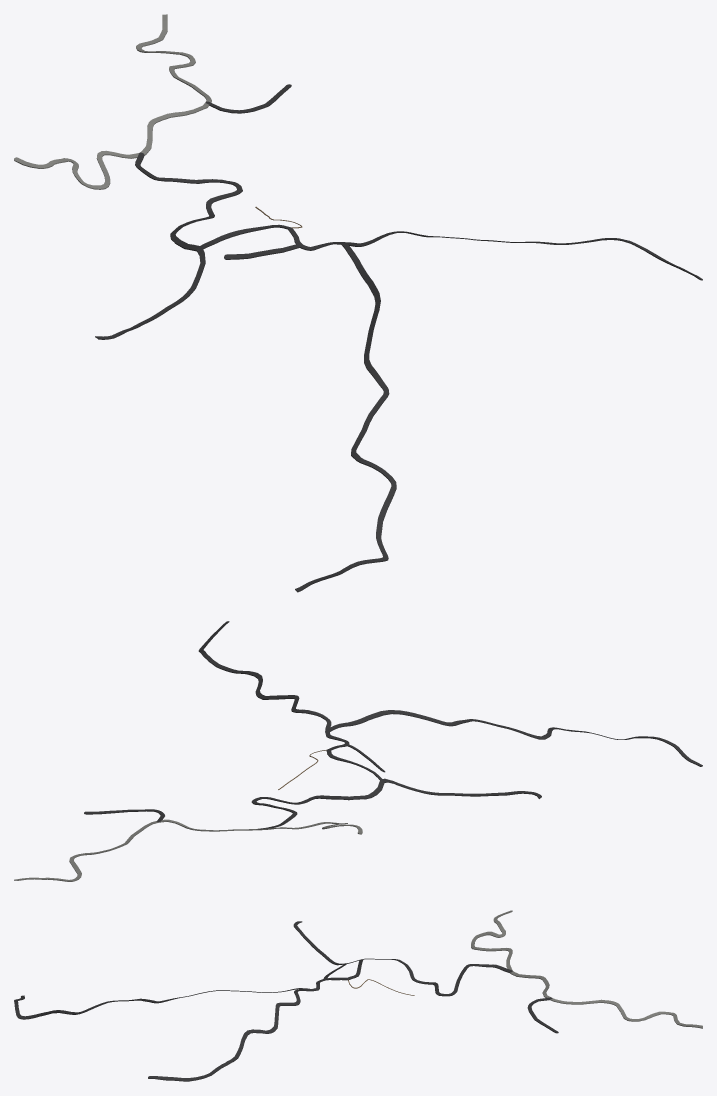
3 views of the same model, one above another, from view 1: azimuth 30°, elevation 25°; view 2: azimuth 150°, elevation 25°; view 3: azimuth 270°, elevation 25° (orthographic). The views are drawn at different scales.
Bounding box in the file's own units: 664 × 202 × 1148.
